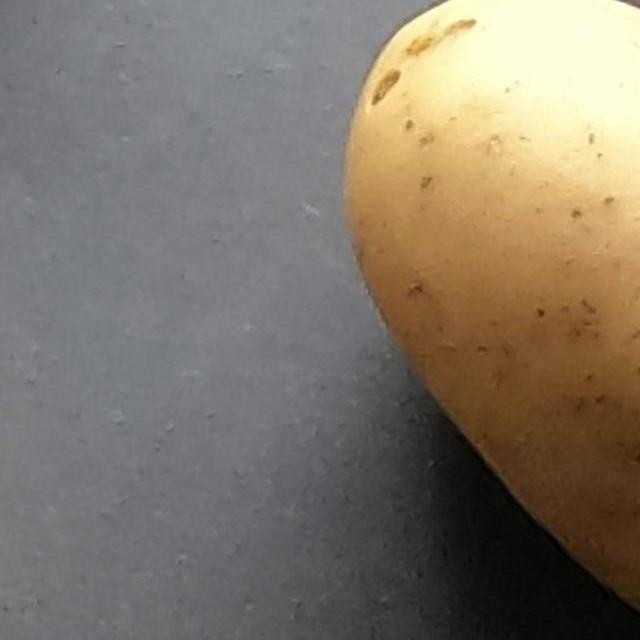potato: (299, 0, 640, 640)
